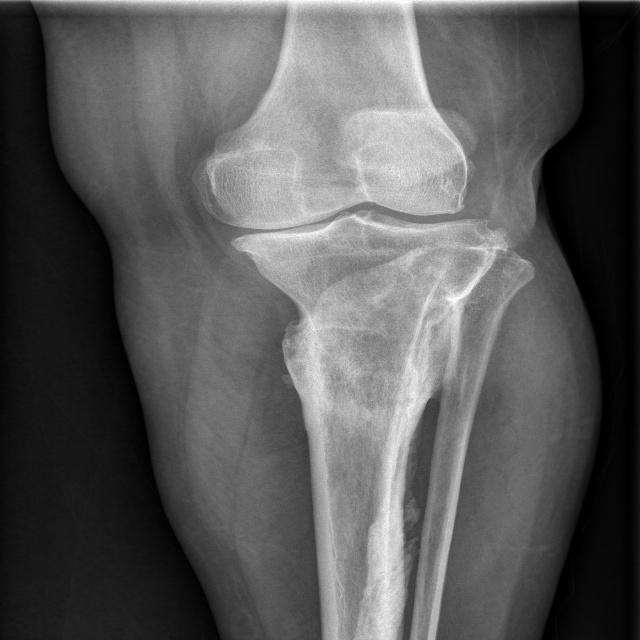Knee: (191, 103, 504, 333)
